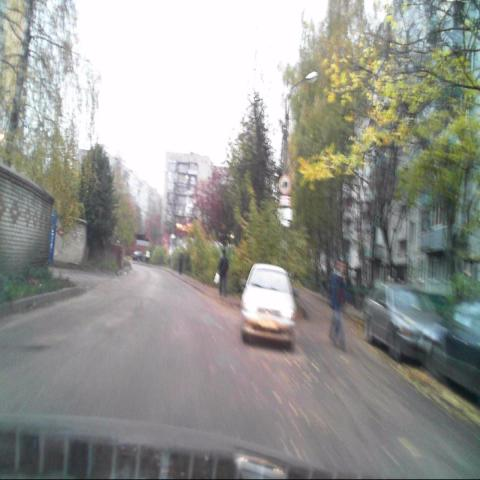3_4_1: (278, 175, 290, 194)
